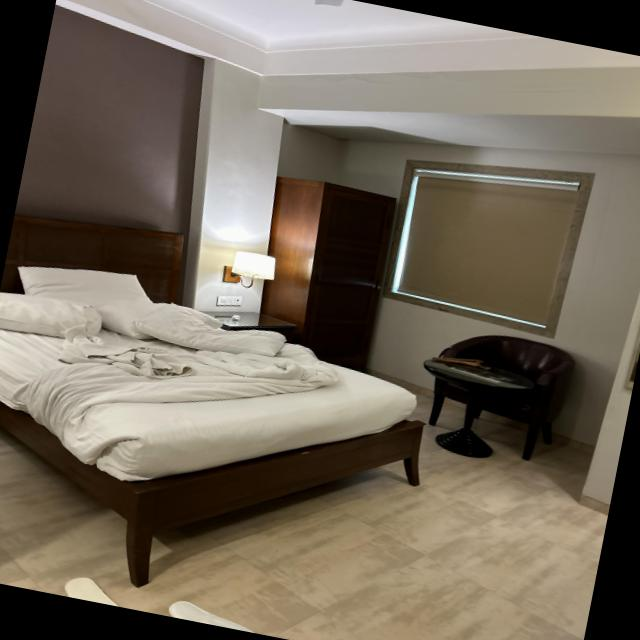mess: (0, 226, 409, 534)
